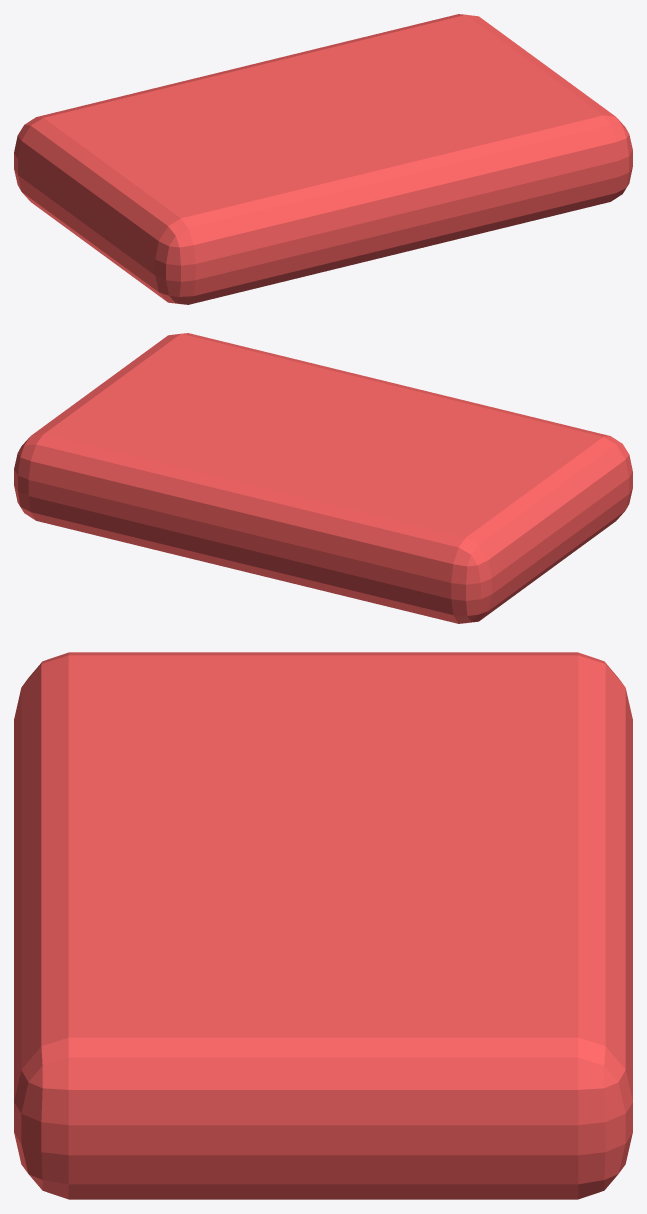
Rendered from Pillow_11.fbx.
3 views of the same model, one above another, from view 1: azimuth 30°, elevation 25°; view 2: azimuth 150°, elevation 25°; view 3: azimuth 270°, elevation 25° (orthographic). The views are drawn at different scales.
Parts seen in each view (by area): view 1: Pillow_11; view 2: Pillow_11; view 3: Pillow_11.
Part boxes in pixels (x1,y1,x2,y2): Pillow_11: (14,14,632,304); Pillow_11: (14,333,632,623); Pillow_11: (14,652,632,1199).
Size of the model in its own units: 0.5158 by 0.0893 by 0.3149.
